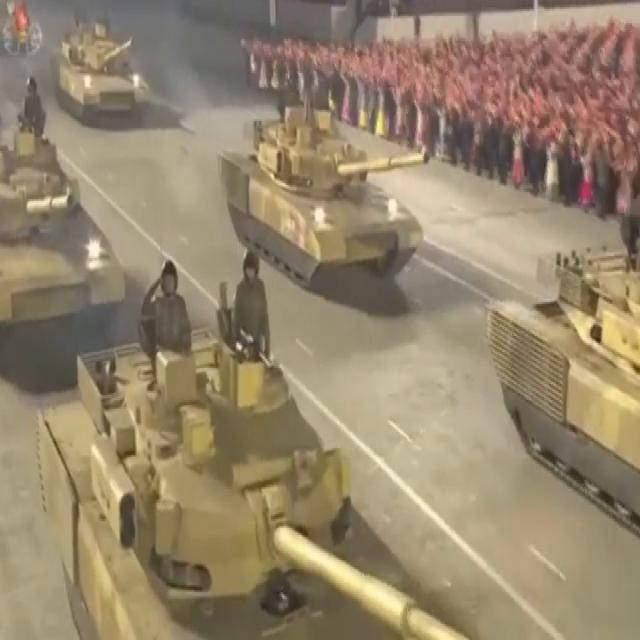north tank: (24, 260, 492, 640), (206, 48, 434, 326), (481, 202, 640, 554), (0, 74, 132, 362), (50, 0, 161, 148)
